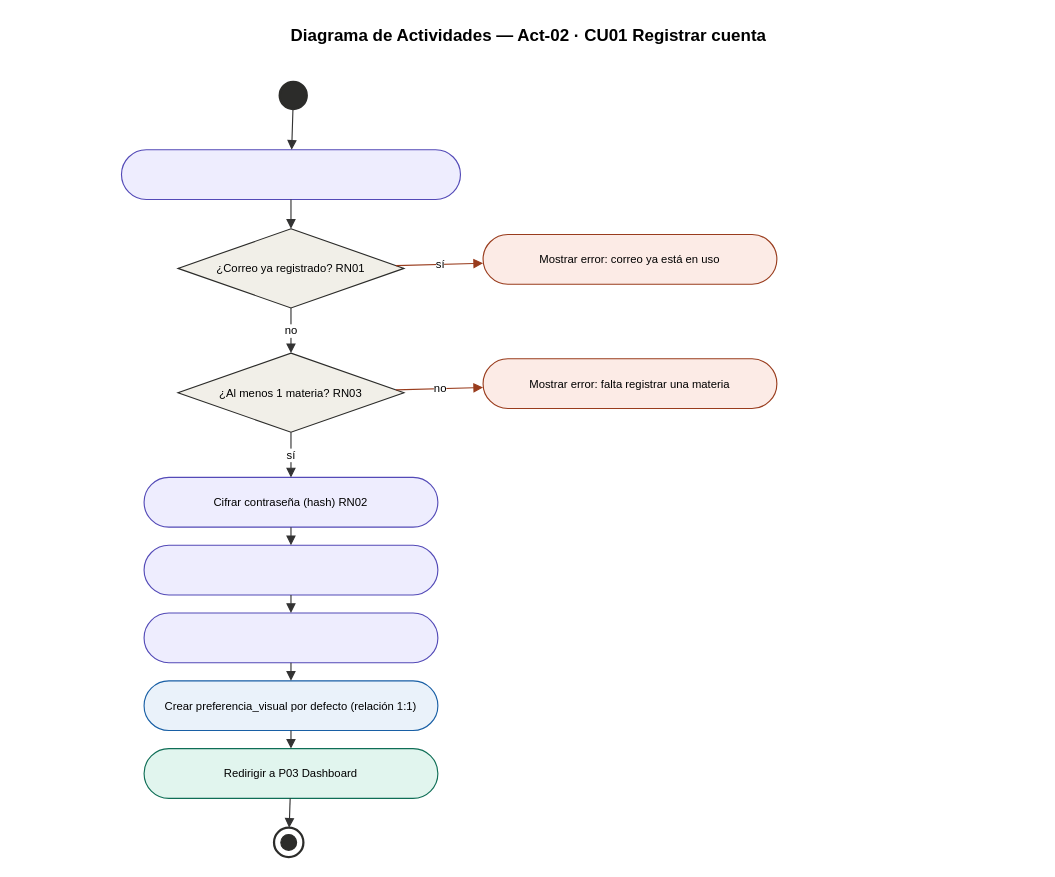
Image size: 1055x877. Some labels were removed from this diagram. The box of each missing label's shape, as (x1, y1, x2, y2) in pixels:
Crear registro en tabla cuenta: (143, 544, 438, 595)
Crear registro(s) en tabla materia: (143, 612, 438, 663)
Ingresar nombre, correo, contraseña y al menos una materia: (120, 149, 460, 199)
